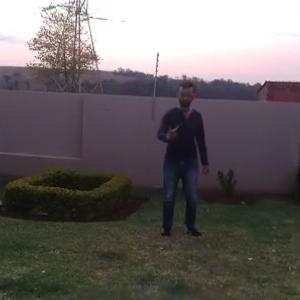takeoff-hand: (156, 118, 186, 147)
